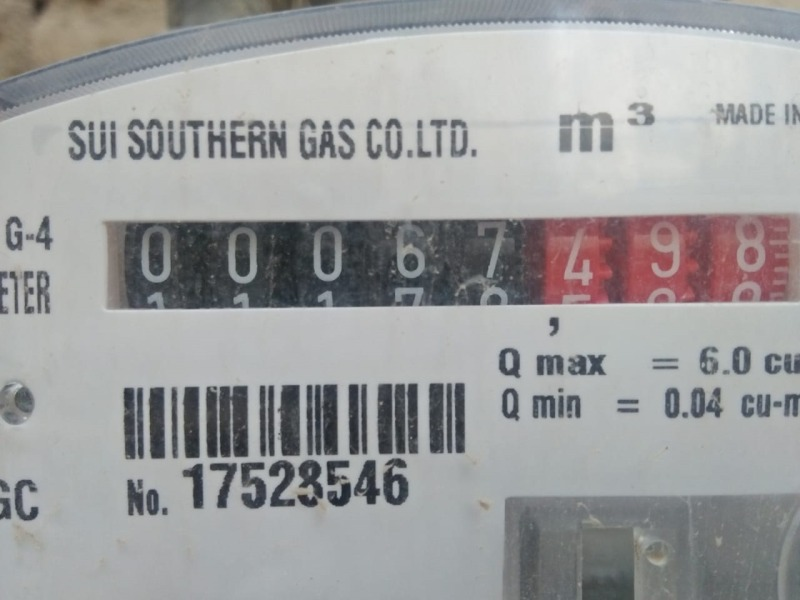ssgc: (100, 216, 798, 314)
